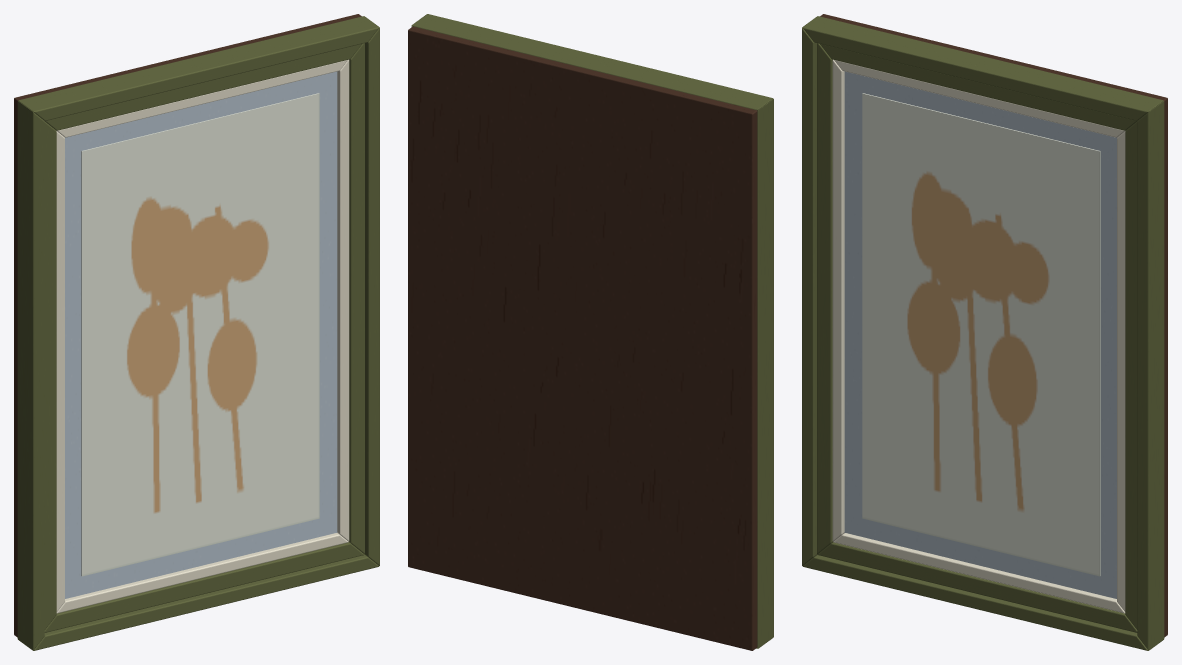
The model's file is Frame_22_FUR06.fbx.
3 views of the same model, side by side, from view 1: azimuth 30°, elevation 25°; view 2: azimuth 150°, elevation 25°; view 3: azimuth 330°, elevation 25° (orthographic).
Parts seen in each view (by area): view 1: Frame_22; view 2: Frame_22; view 3: Frame_22.
Boxes of the visible parts, <box> form: Frame_22: <box>14,14,379,650</box>; Frame_22: <box>408,14,773,650</box>; Frame_22: <box>802,14,1167,650</box>.
Size of the model in its own units: 0.35 by 0.52 by 0.036.
Materials: 2 (2 with a texture image).
